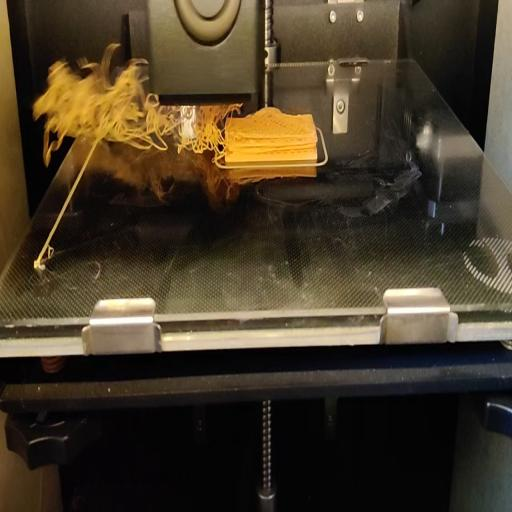spaghetti: (188, 100, 231, 155)
